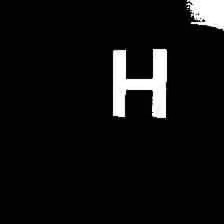LTR_H: (105, 41, 172, 125)
